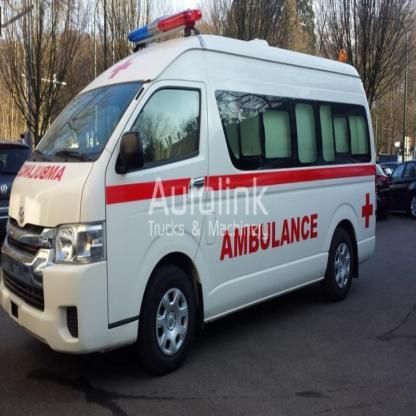Ambulance - v1 Ambulance last generate: (0, 9, 377, 371)
